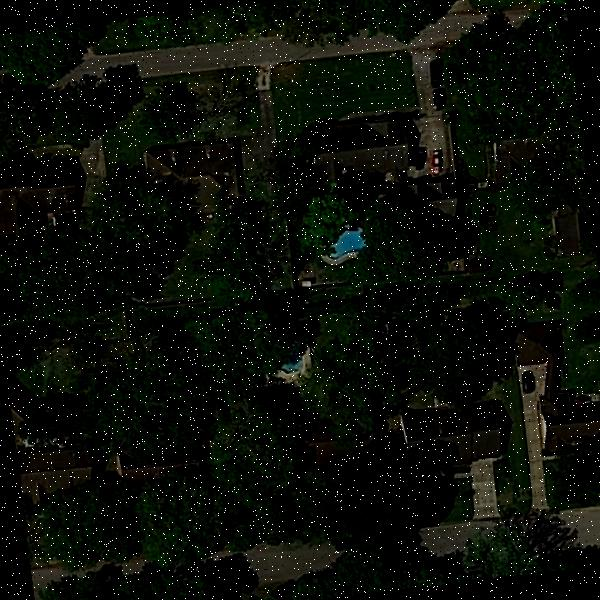Buildings: (527, 328, 600, 453), (316, 114, 416, 176), (406, 402, 509, 462), (0, 159, 77, 232), (158, 136, 239, 195), (17, 450, 94, 502), (118, 452, 195, 482), (410, 182, 456, 215), (555, 217, 596, 252), (493, 143, 529, 175), (9, 391, 40, 416)
